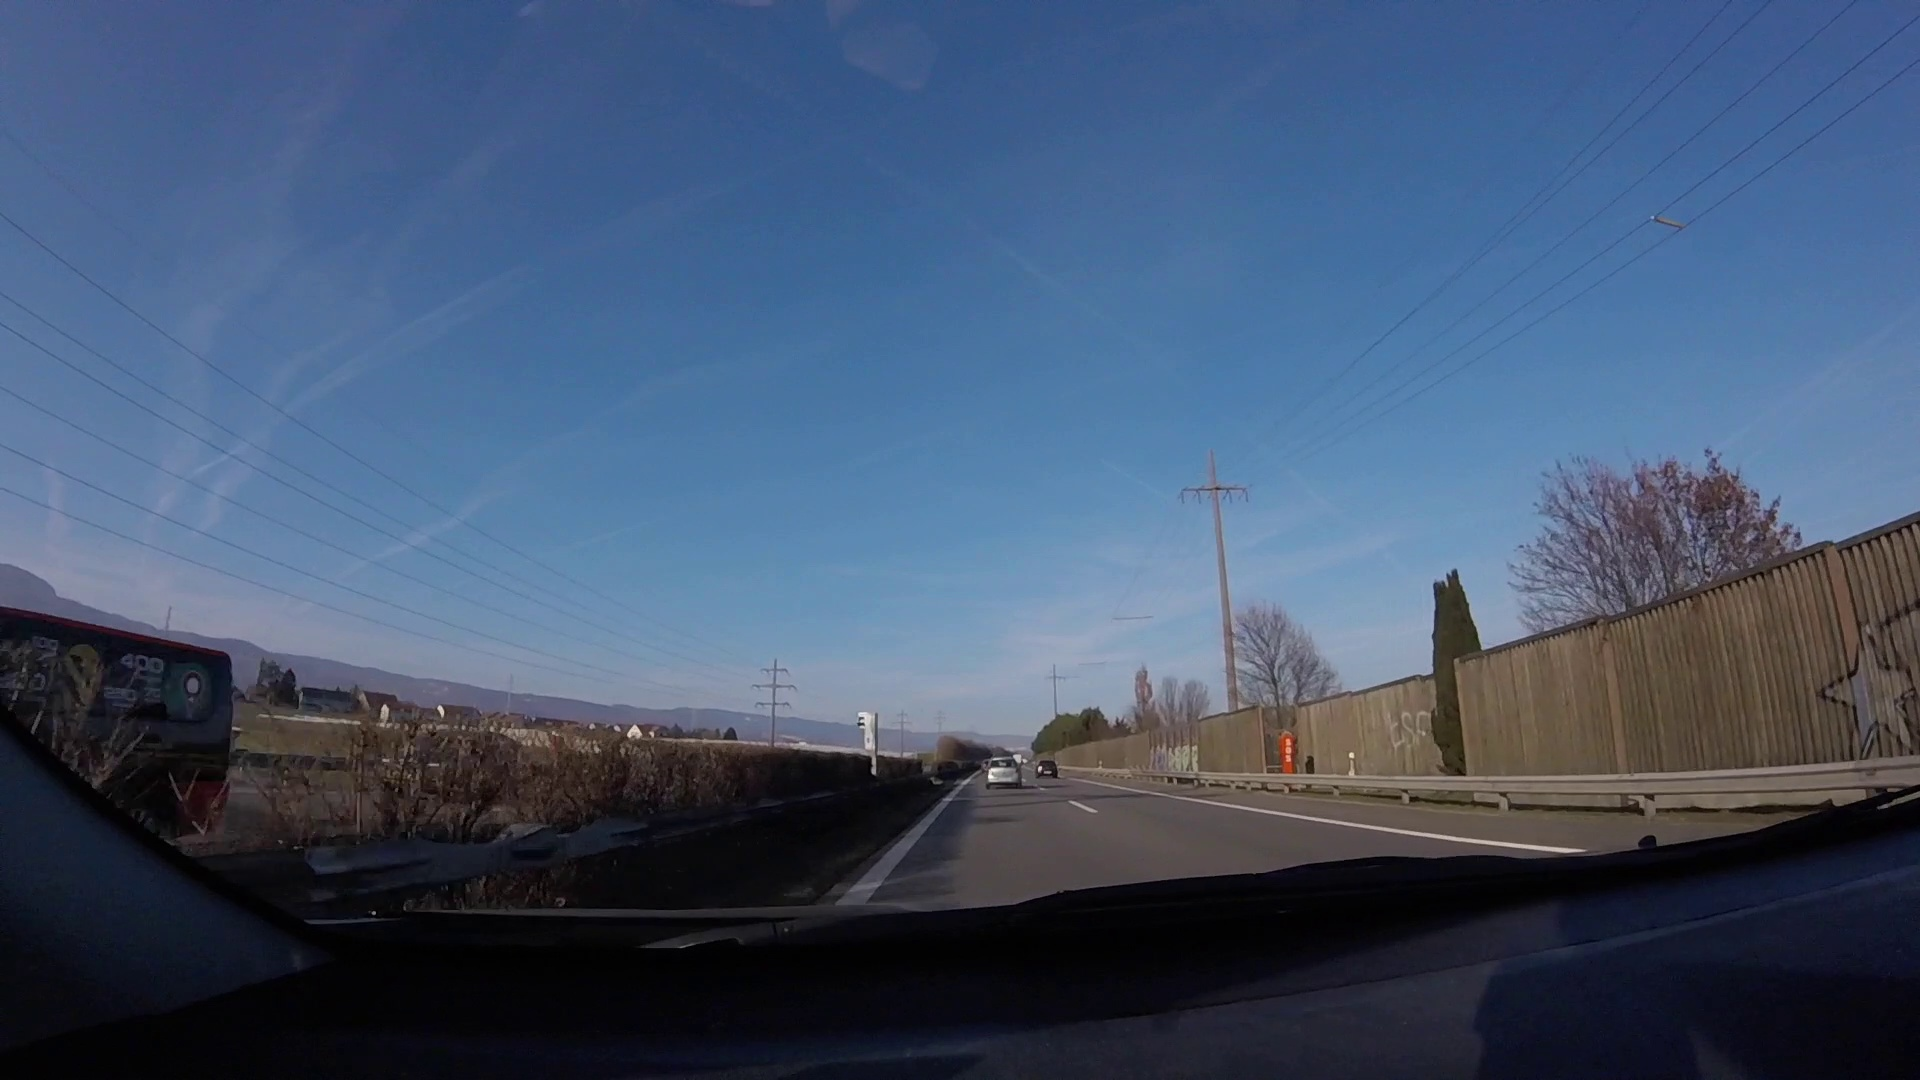radar: (856, 711, 882, 779)
